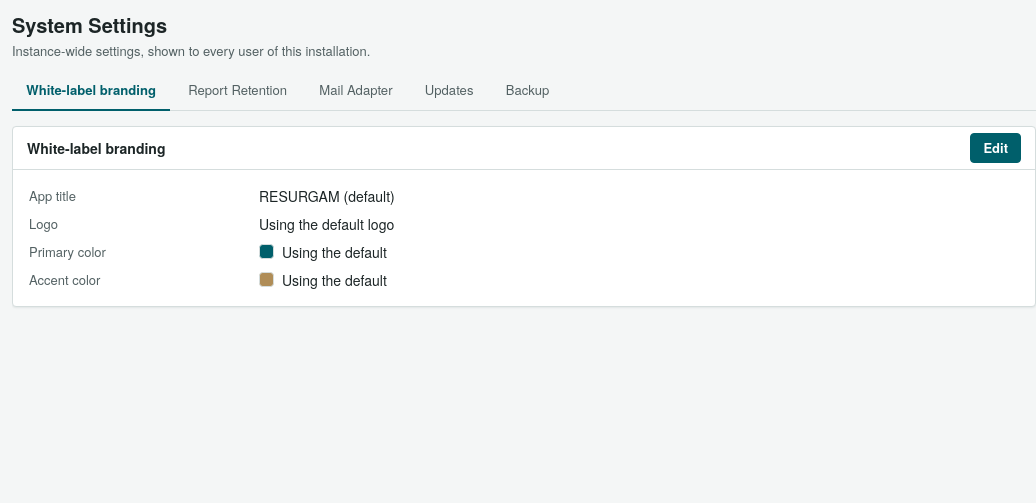
SystemSettingsPage — tabs › shows one settings area at a time and switches on tab click
The width and height of the screenshot is (1036, 503).
Expected: the element with test id "branding-settings" is shown, top-left (12, 126), bottom-right (1035, 306)
Click the tab "Mail Adapter" at (356, 91), box top-left (305, 72), bottom-right (407, 110)
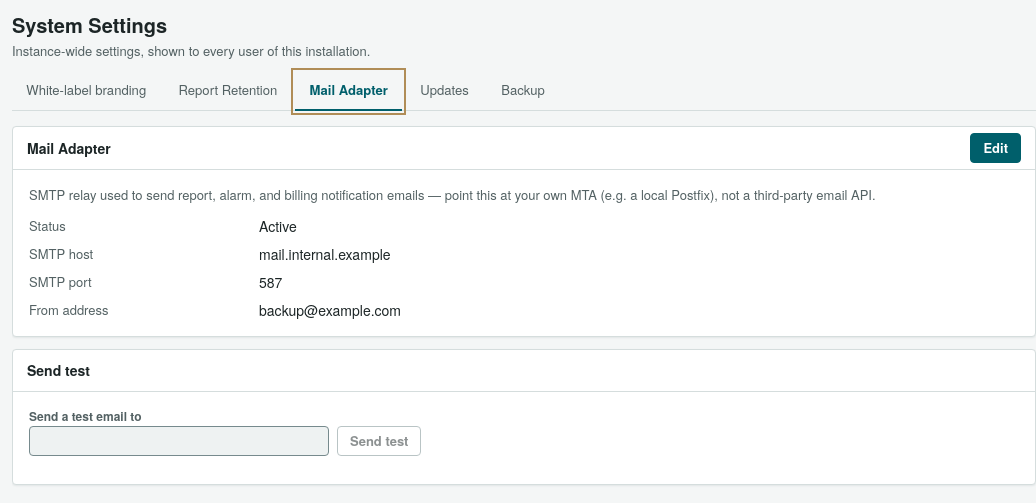
Expected: the element with test id "branding-settings" is gone
